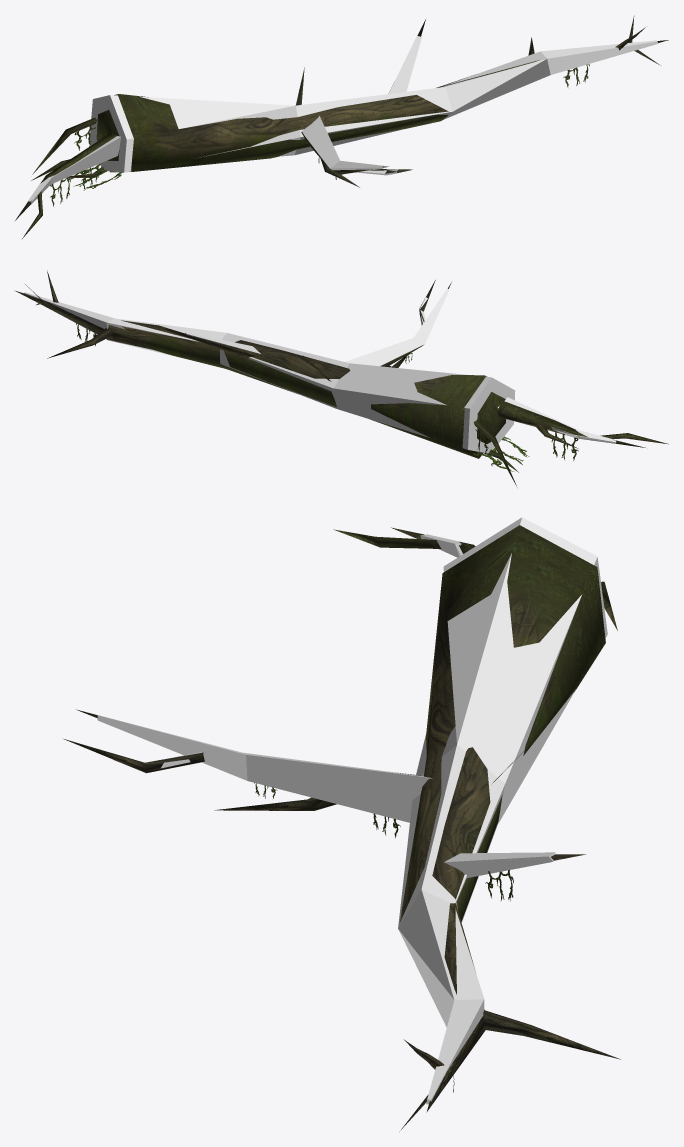
File: FallenTree_2_Col.fbx
3 renders of one model, top to bottom at view 1: azimuth 30°, elevation 25°; view 2: azimuth 150°, elevation 25°; view 3: azimuth 270°, elevation 25°, orthographic. The views are drawn at different scales.
Visible parts, largest first — view 1: fallentree_2, FallenTree2_Col; view 2: fallentree_2, FallenTree2_Col; view 3: FallenTree2_Col, fallentree_2.
Part boxes in pixels (x1,y1,x2,y2): fallentree_2: [15, 15, 668, 238]; FallenTree2_Col: [27, 36, 657, 204]; fallentree_2: [14, 270, 668, 487]; FallenTree2_Col: [24, 288, 616, 453]; FallenTree2_Col: [97, 517, 607, 1104]; fallentree_2: [64, 525, 620, 1131].
Bounding box in the file's own units: 961 × 120 × 369.
